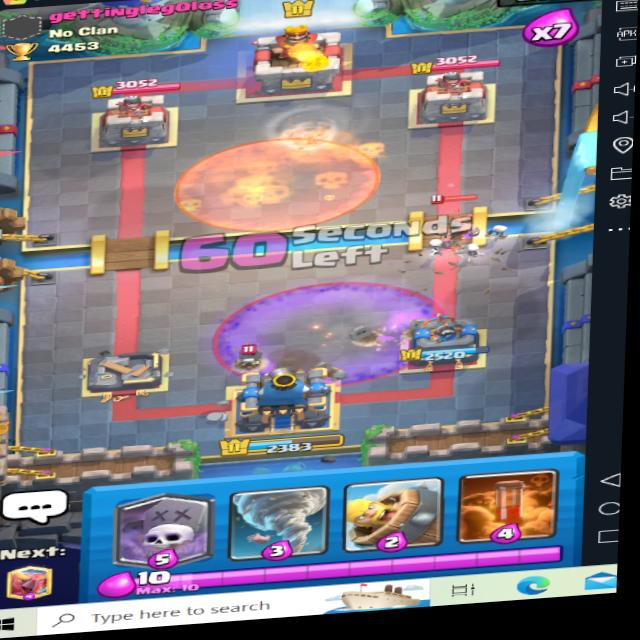fireball: (284, 32, 341, 79)
graveyard: (215, 266, 448, 396)
poison: (169, 125, 379, 241)
royal-recruits: (416, 197, 487, 252)
skeleton: (225, 340, 268, 374)
tornado: (263, 91, 374, 159)
